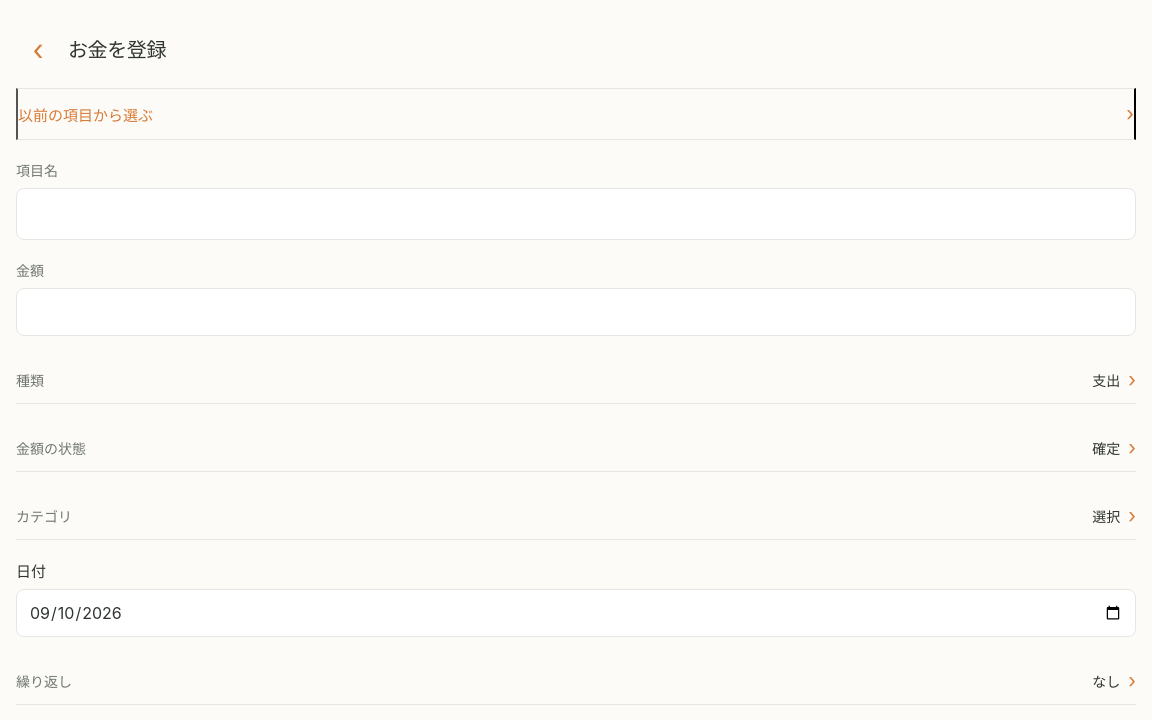
Test: MoneyForm settlement mode › defaults to actual and auto-selects planned when recurrence is added
Expected: the button with aria-label "お金カテゴリ" is shown, [16,492,1136,540]
Expected: the button "金額の状態 確定 ›" is shown, [16,424,1136,472]
Click the button with aria-label "お金の繰り返し": (44,681) [16,657,1136,705]
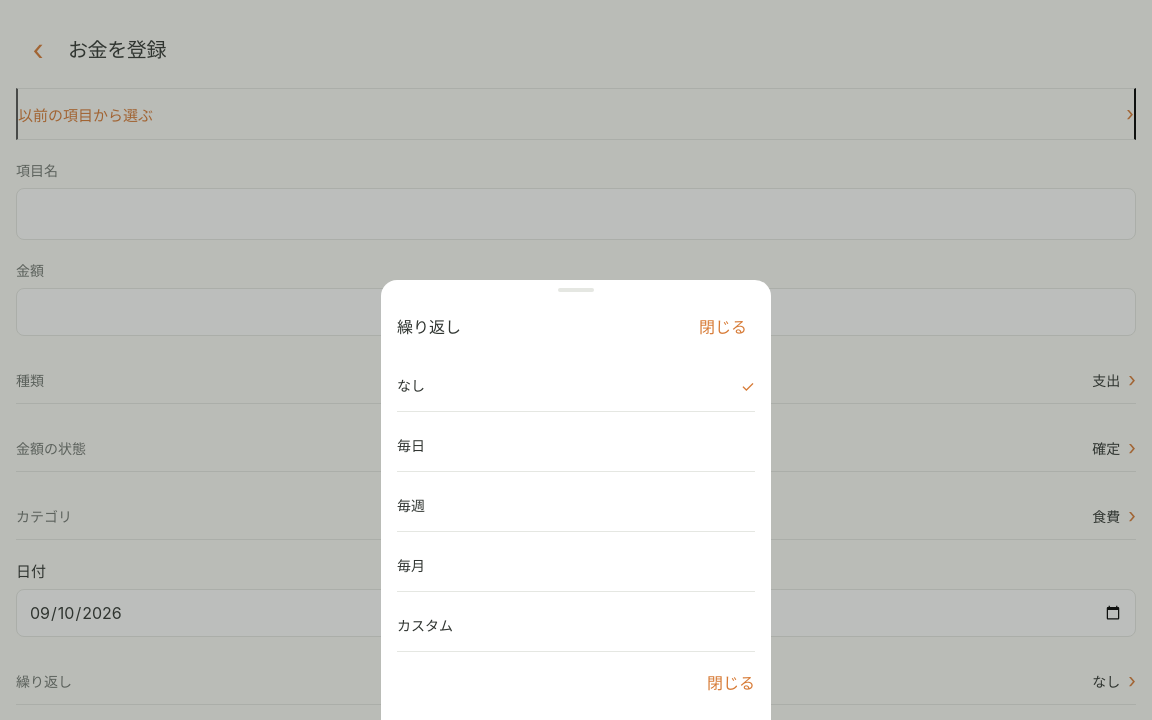
Click the button "毎月": (411,566) [397,540,755,592]
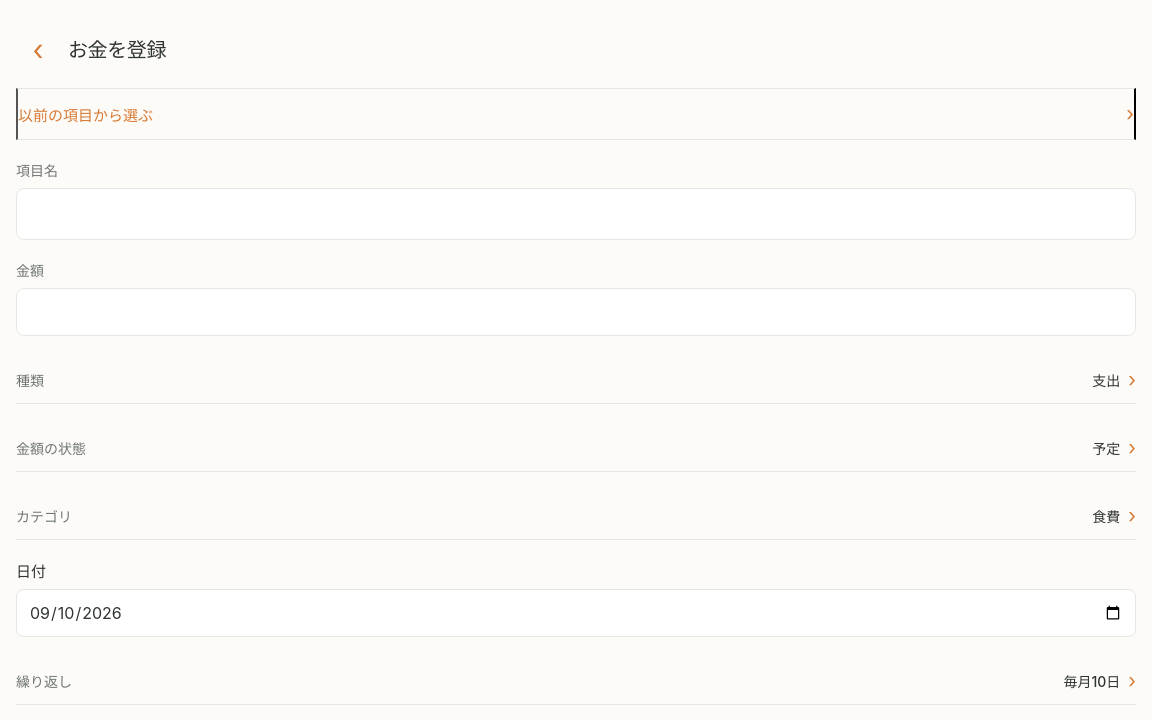
Expected: the button "金額の状態 予定 ›" is shown, [16,424,1136,472]
